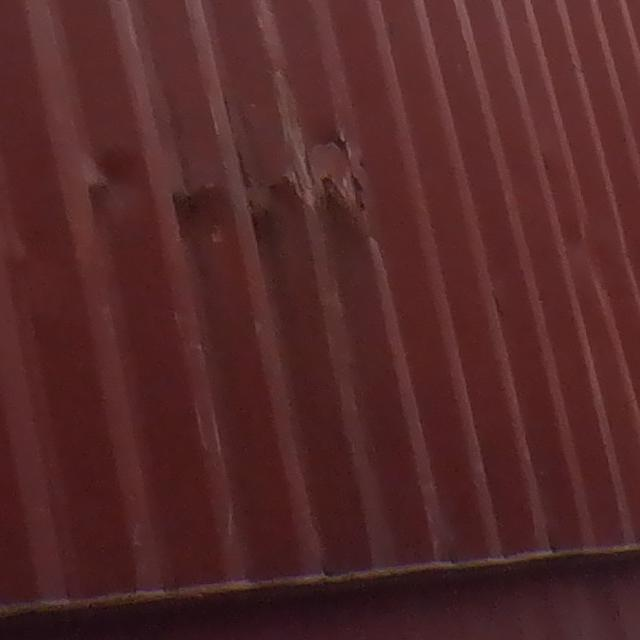dent: (65, 117, 429, 260)
